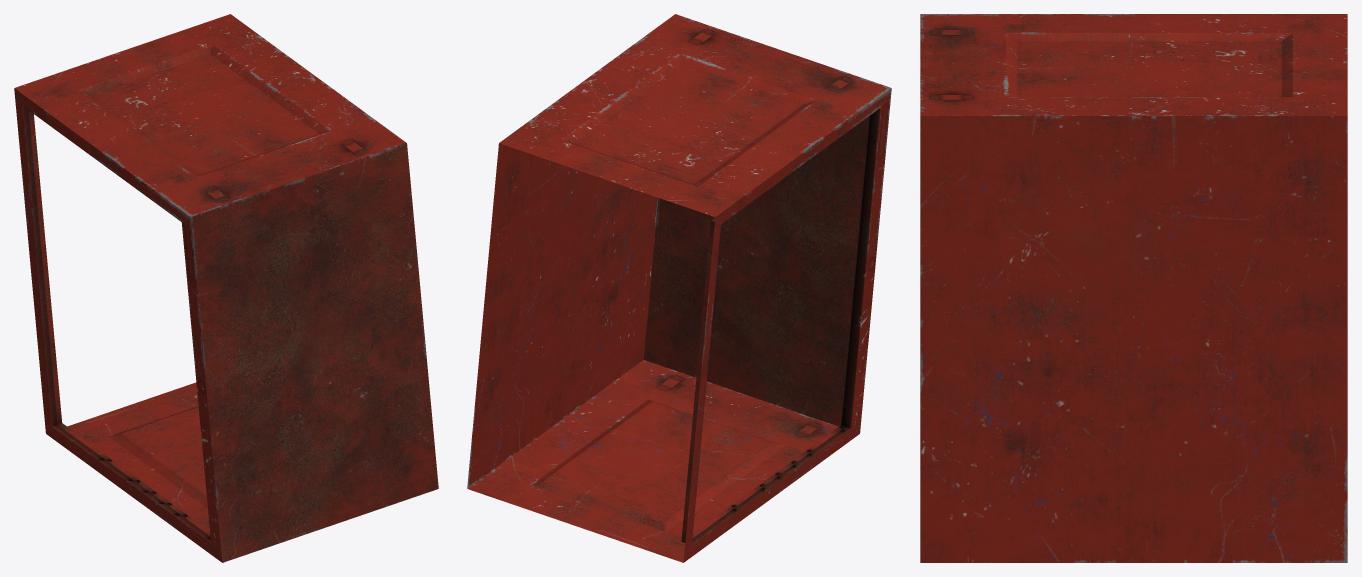
File: Tool_Cabinet_Body_low.obj
3 renders of one model, left to right at view 1: azimuth 30°, elevation 25°; view 2: azimuth 150°, elevation 25°; view 3: azimuth 270°, elevation 25°, orthographic. The views are drawn at different scales.
Size of the model in its own units: 0.4681 by 0.6756 by 0.5766.
1 material, 1 textured.
